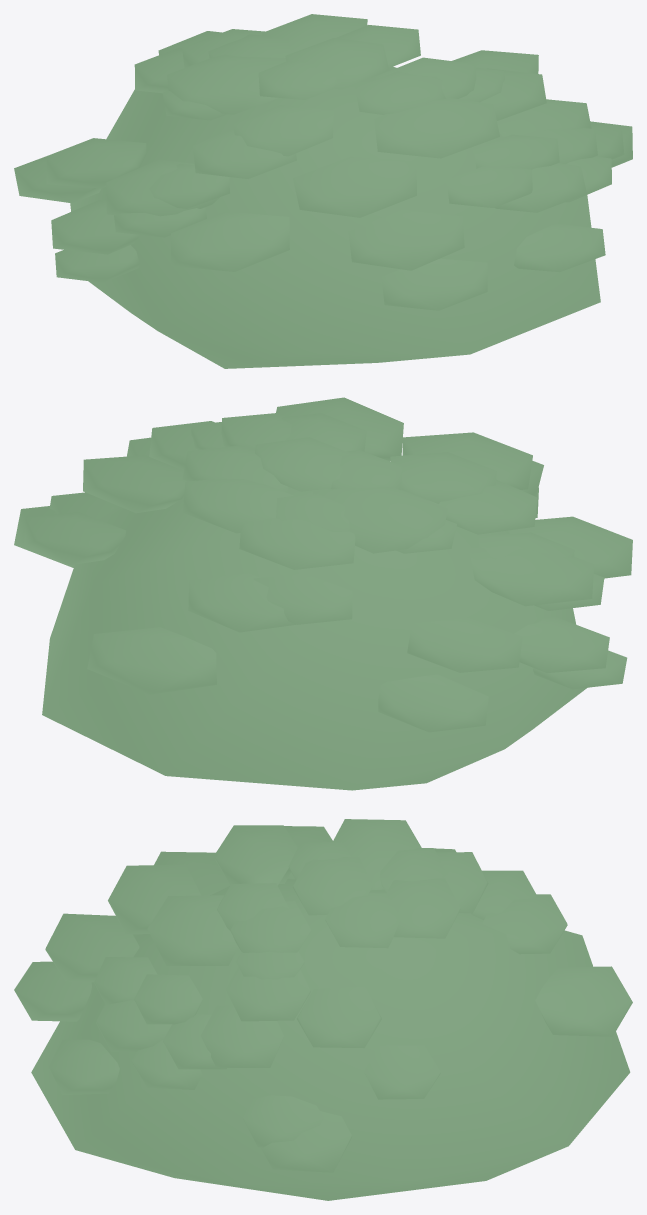
File: Blender_Salal_2.glb
3 views of the same model, one above another, from view 1: azimuth 30°, elevation 25°; view 2: azimuth 150°, elevation 25°; view 3: azimuth 270°, elevation 25° (orthographic). The views are drawn at different scales.
Parts seen in each view (by area): view 1: Blender_Salal_2; view 2: Blender_Salal_2; view 3: Blender_Salal_2.
Part boxes in pixels (x1,y1,x2,y2): Blender_Salal_2: (14,14,632,368); Blender_Salal_2: (14,397,632,790); Blender_Salal_2: (14,819,632,1200).
Size of the model in its own units: 1.28 by 0.5139 by 1.16.
